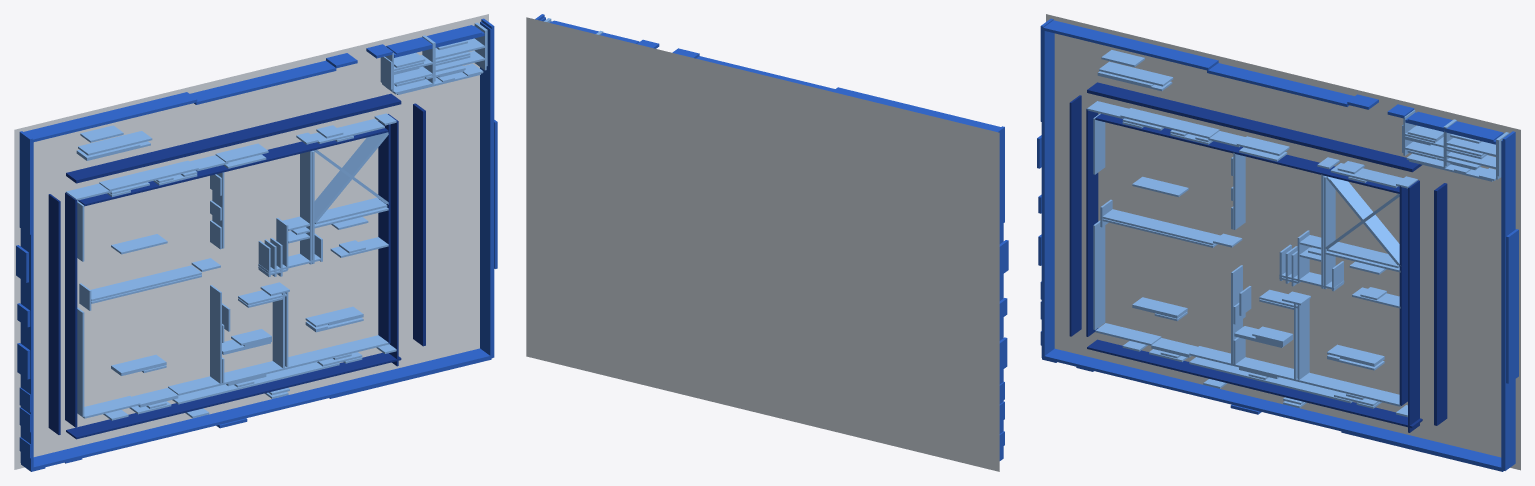
The model's file is 191c9e16-6bcd-482c-a5cf-e881a1d3d107.obj.
3 views of the same model, side by side, from view 1: azimuth 30°, elevation 25°; view 2: azimuth 150°, elevation 25°; view 3: azimuth 330°, elevation 25° (orthographic).
Bounding box in the file's own units: 80 × 54.8 × 3.05.
